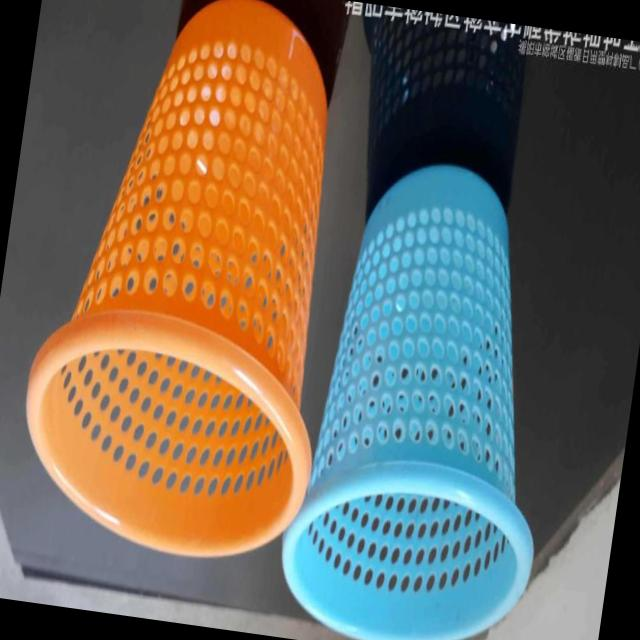dustbin: (0, 0, 381, 582), (269, 132, 591, 640)
